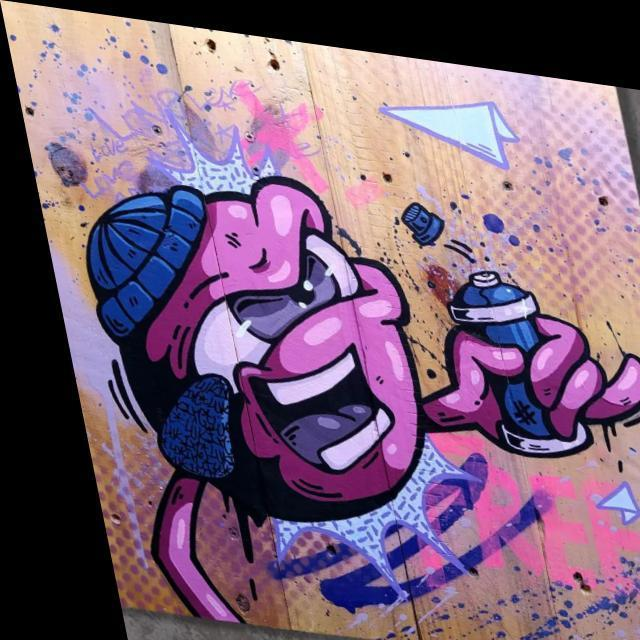-: (35, 73, 640, 640)
